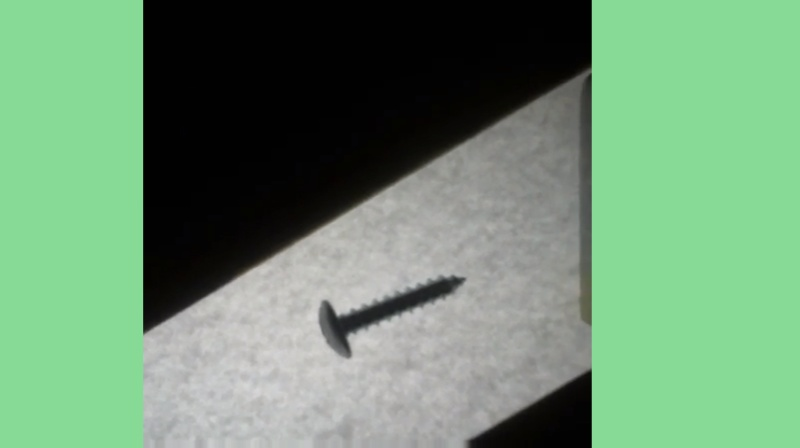S003: (316, 273, 467, 361)
